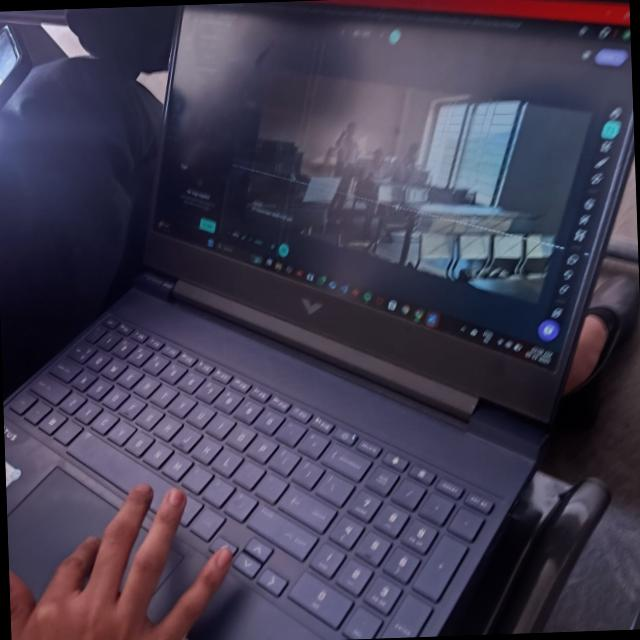laptop: (0, 0, 635, 605)
